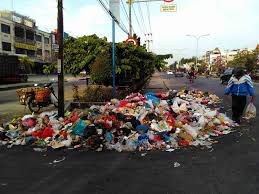garbage: (17, 115, 230, 145), (116, 96, 222, 146)
